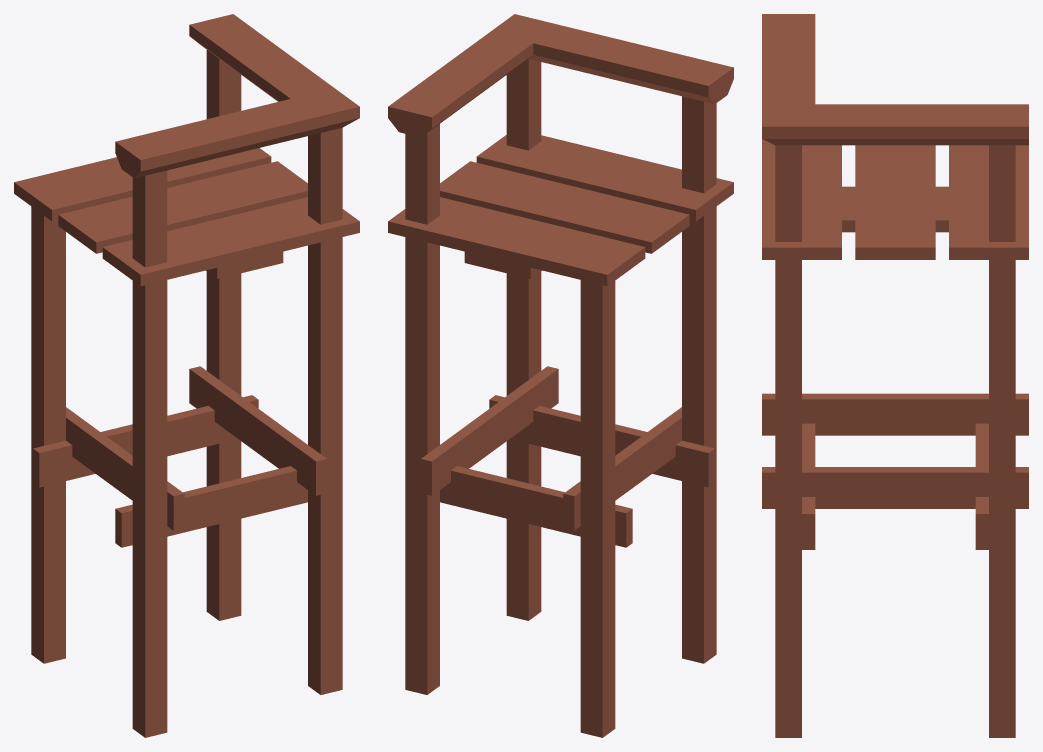
File: scaffold_small_high_cornerLeft 1.fbx
3 renders of one model, left to right at view 1: azimuth 30°, elevation 25°; view 2: azimuth 150°, elevation 25°; view 3: azimuth 270°, elevation 25°, orthographic. The views are drawn at different scales.
Visible parts, largest first — view 1: scaffold_small_high_cornerLeft; view 2: scaffold_small_high_cornerLeft; view 3: scaffold_small_high_cornerLeft.
Part boxes in pixels (box(x1,y1,x2,y2)): scaffold_small_high_cornerLeft: box(14, 14, 359, 737); scaffold_small_high_cornerLeft: box(388, 14, 733, 737); scaffold_small_high_cornerLeft: box(762, 14, 1028, 737).
Size of the model in its own units: 200 by 510 by 200.
